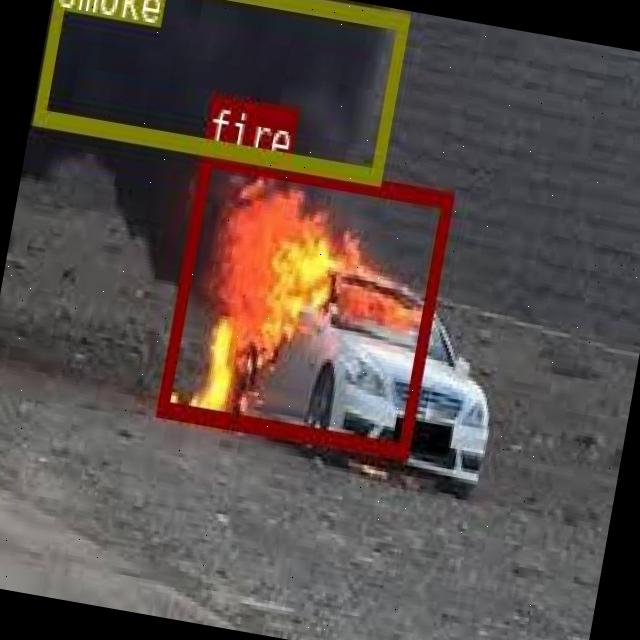fire: (154, 148, 450, 458)
smoke: (32, 0, 406, 179)
